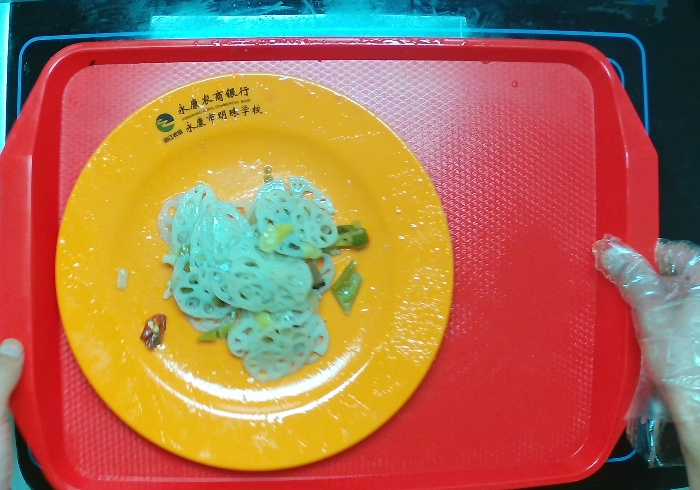YKMZ-Ju_Se_Mian_Pan: (58, 74, 457, 469)
